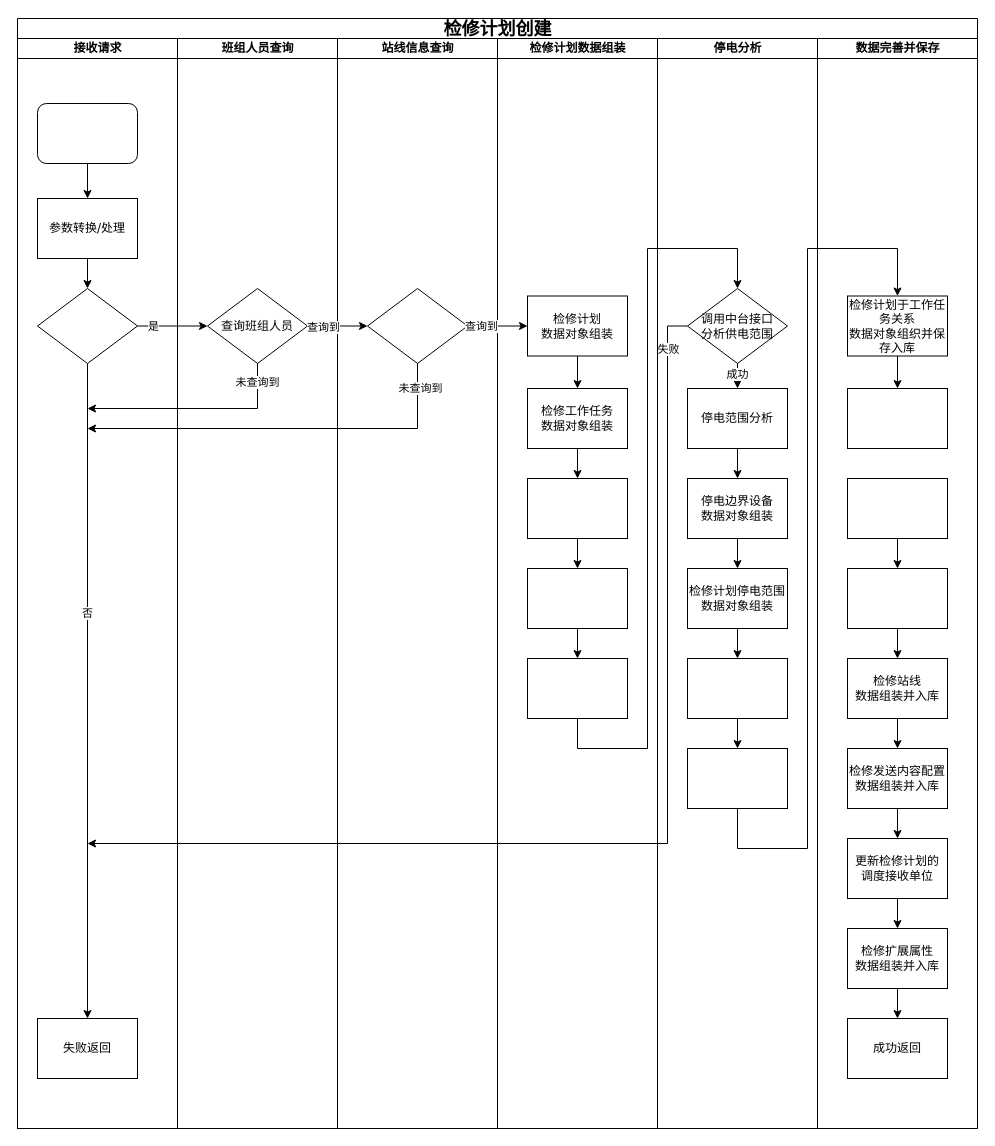
The diagram is 995 pixels wide and 1146 high, and some of its shapes have lost their labels. Here are the shapes that lost their labels. From the top down, the centre of each, then its label:
At point 87,133: "开始".
At point 87,326: "参数校验".
At point 417,326: "查询站线".
At point 897,418: "检修工作任务班组 检修作业工序 检修工作任务设备 数据入库".
At point 577,508: "检修工作任务设备 数据对象组装".
At point 897,508: "检修计划 作业风险等级、 设备最高压等级设置".
At point 577,598: "检修作业工序 数据对象组装".
At point 897,598: "检修计划 数据入库".
At point 577,688: "检修工作任务班组 数据对象组装".
At point 737,688: "设置 检修计划停电范围 的调度接收单位".
At point 737,778: "停电边界设备 检修计划停电范围 保存到数据库".
